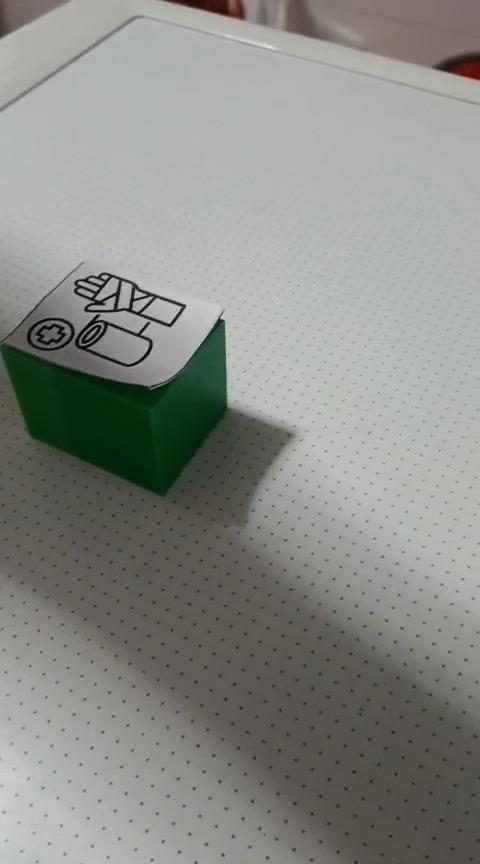Bandages: (0, 260, 228, 497)
